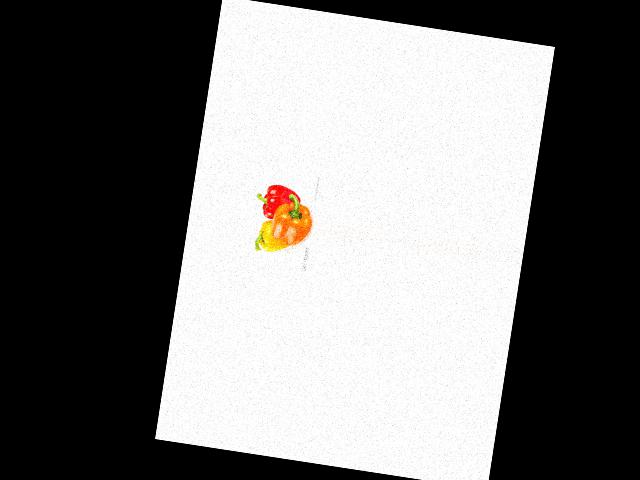bell_pepper: (251, 216, 293, 257)
